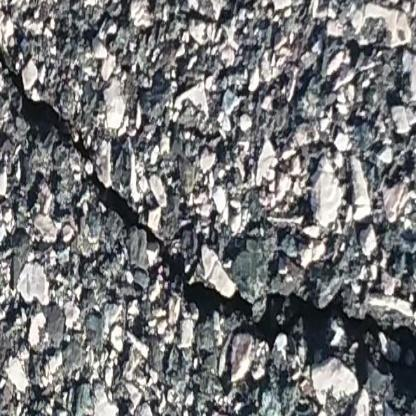Cracks: (0, 29, 416, 408)
